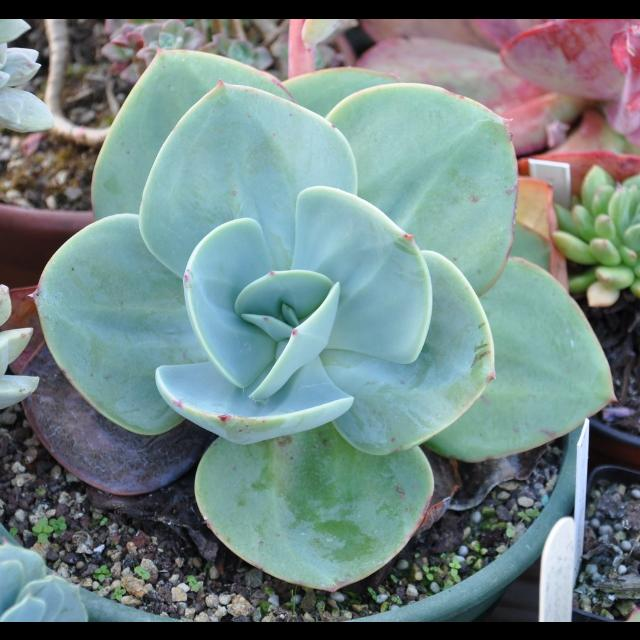Flower: (1, 19, 640, 622)
